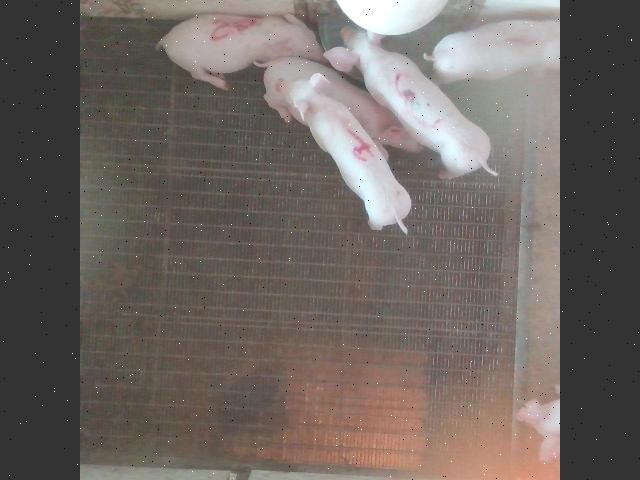pig-1: (424, 19, 559, 81)
pig-3: (325, 26, 490, 175)
pig-4: (276, 72, 411, 231)
pig-5: (158, 12, 326, 89)
